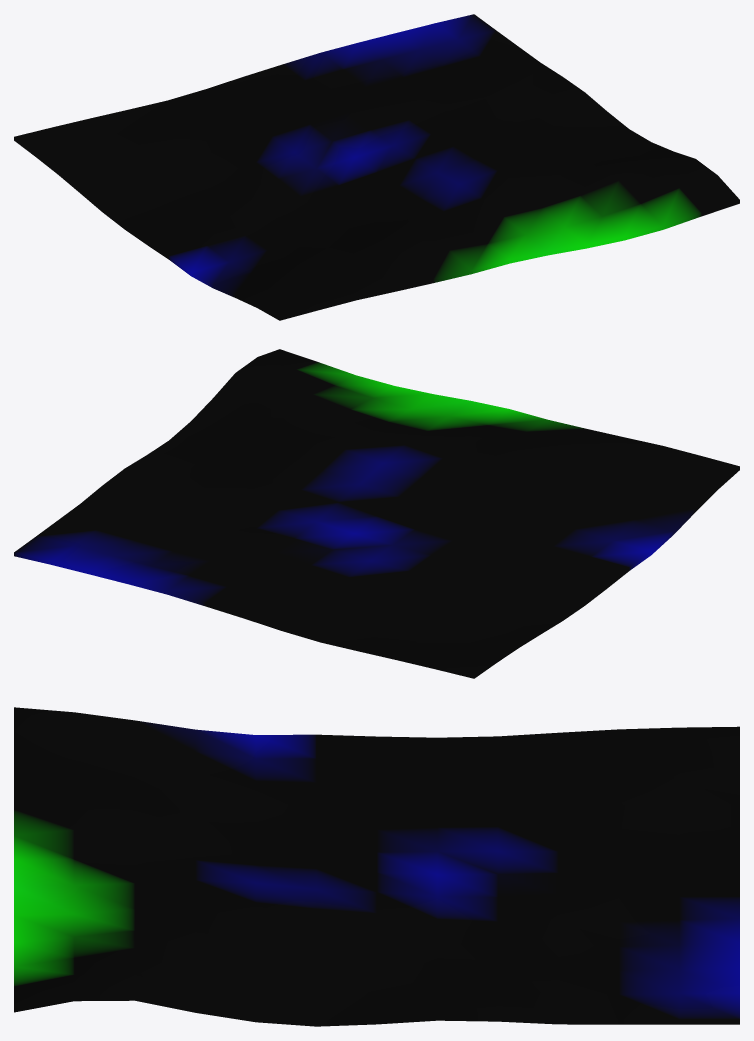
Rendered from coast_4_7.glb.
3 views of the same model, one above another, from view 1: azimuth 30°, elevation 25°; view 2: azimuth 150°, elevation 25°; view 3: azimuth 270°, elevation 25° (orthographic). The views are drawn at different scales.
Visible parts, largest first — view 1: terrain; view 2: terrain; view 3: terrain.
Boxes of the visible parts, left/top/right/bottom form: terrain: left=14, top=14, right=739, bottom=320; terrain: left=14, top=349, right=739, bottom=678; terrain: left=14, top=707, right=739, bottom=1026.
Bounding box in the file's own units: 192 × 15.76 × 192.
